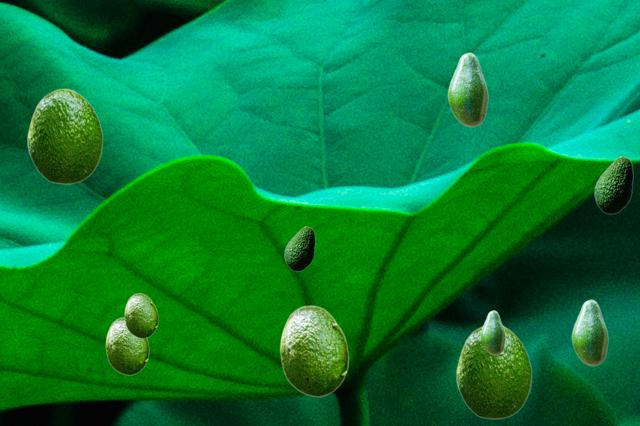avocado: (27, 88, 102, 183), (456, 325, 531, 418), (279, 305, 348, 396), (447, 52, 487, 126), (105, 317, 148, 374), (571, 299, 607, 365), (594, 156, 632, 213), (124, 293, 157, 337), (284, 226, 314, 270), (480, 310, 504, 354)
